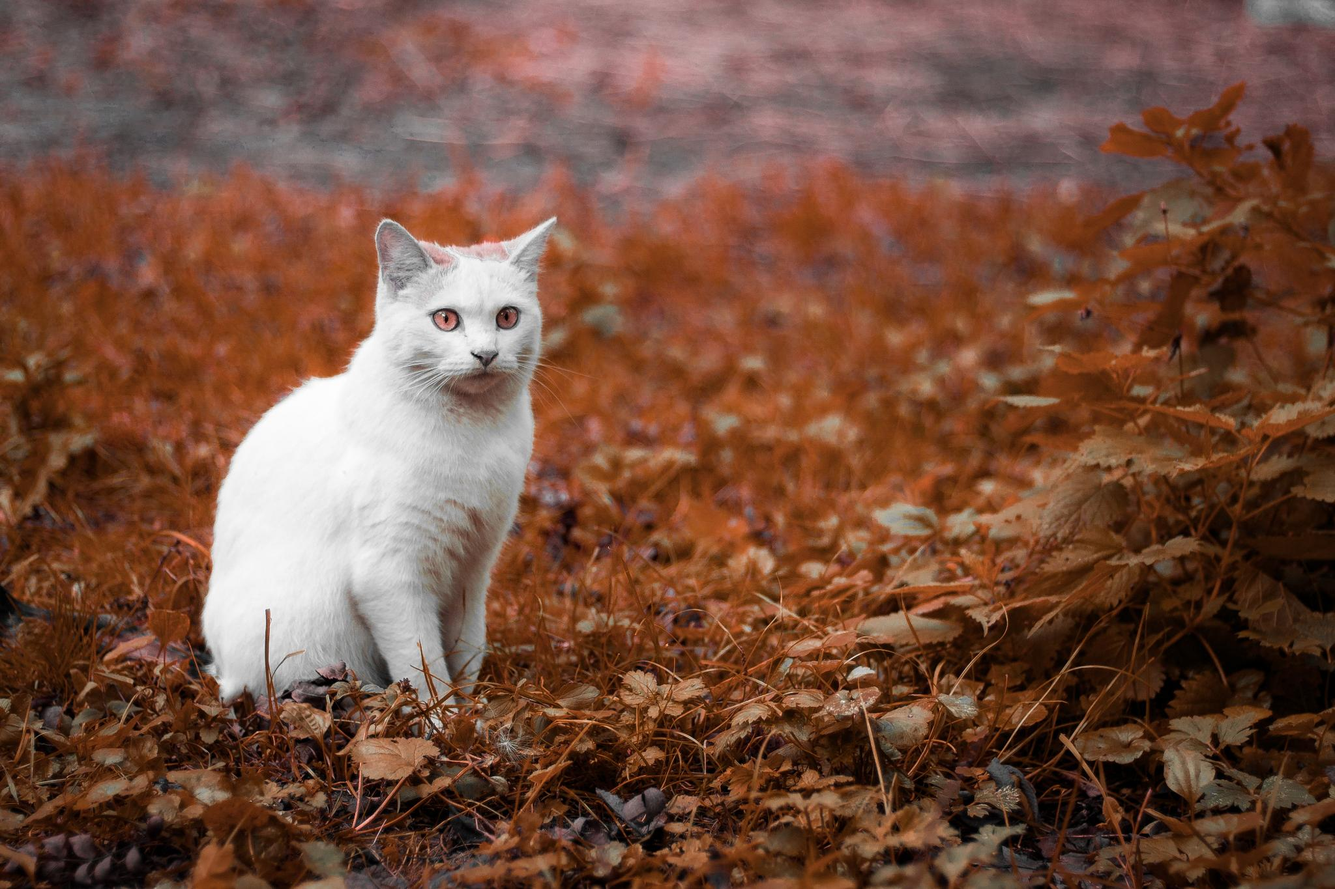cat: (199, 214, 575, 732)
